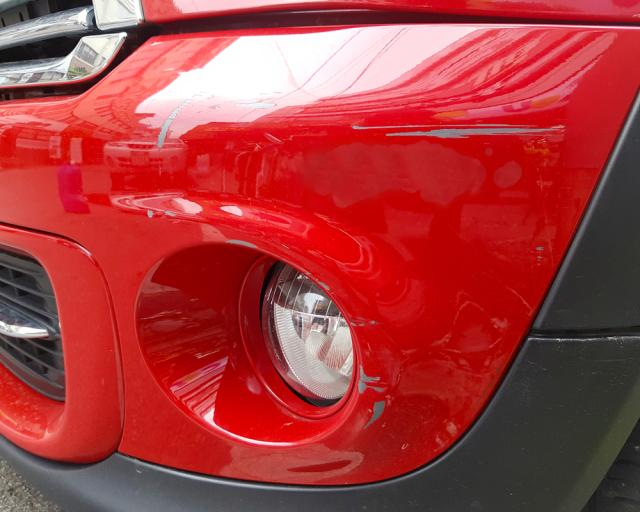scratch: (148, 90, 581, 154), (354, 362, 387, 430)
